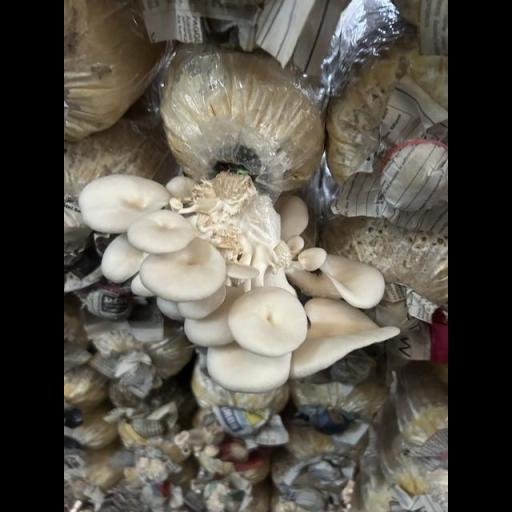White Oyster Mushroom: (69, 157, 406, 401)
